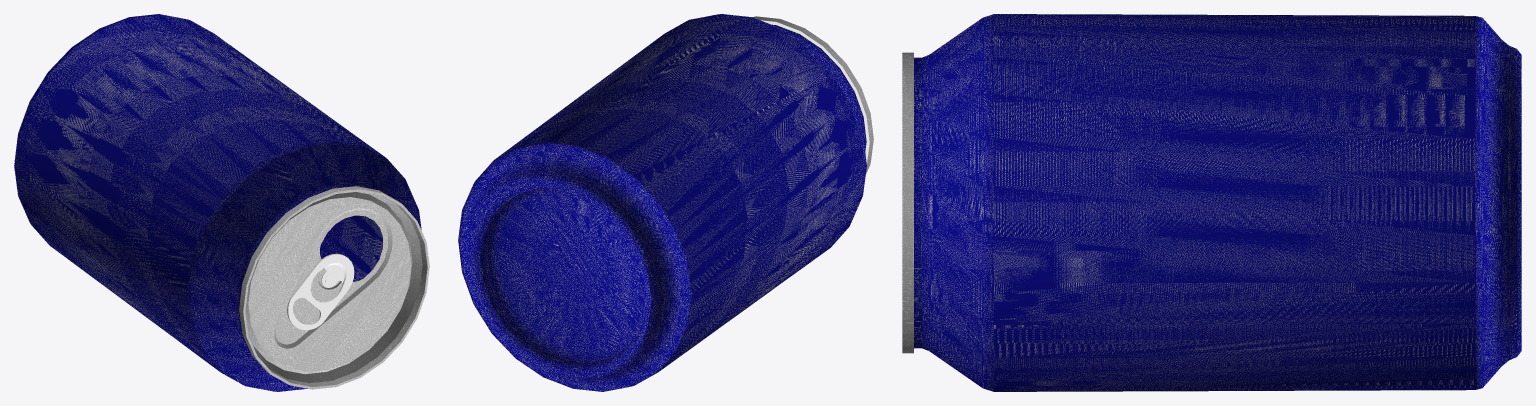
File: model_scale.obj
The picture shows the model from 3 angles, left to right: view 1: azimuth 30°, elevation 25°; view 2: azimuth 150°, elevation 25°; view 3: azimuth 270°, elevation 25°; orthographic projection. The views are drawn at different scales.
Visible parts, largest first — view 1: mesh1_mesh1-geometry, mesh4_mesh4-geometry; view 2: mesh1_mesh1-geometry; view 3: mesh1_mesh1-geometry.
Boxes of the visible parts, box(x1,y1,x2,y2) form: mesh1_mesh1-geometry: box(14, 14, 429, 391); mesh4_mesh4-geometry: box(287, 253, 354, 330); mesh1_mesh1-geometry: box(458, 14, 873, 391); mesh1_mesh1-geometry: box(902, 14, 1521, 391).
Bounding box in the file's own units: 0.062 × 0.062 × 0.1011.
